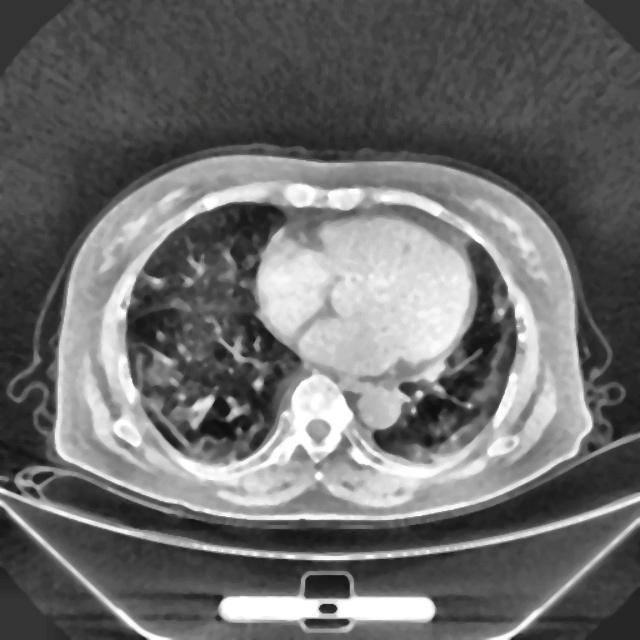covid: (44, 146, 593, 524)
